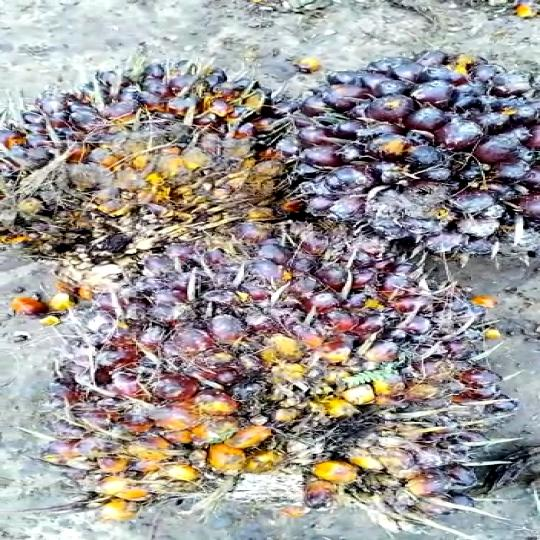kurang masak: (25, 234, 523, 540), (278, 34, 540, 282), (7, 53, 285, 266)
